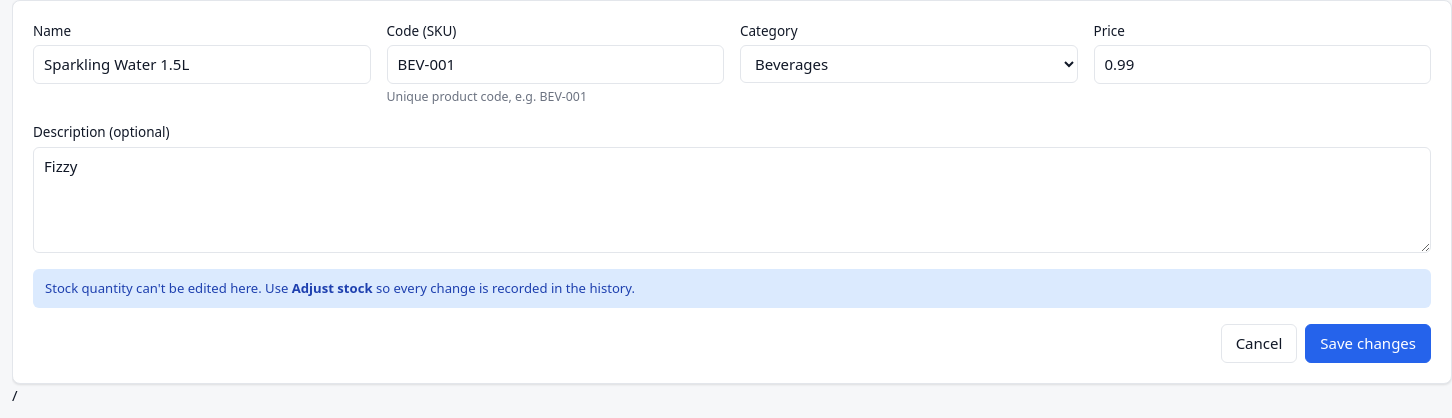
ProductForm › edits without a quantity field and shows backend field errors
Expected: the text "can't be edited here" is shown, x1=45 y1=279 x2=292 y2=297
Click the button "Save changes": [1368, 344] box x1=1305 y1=324 x2=1431 y2=363
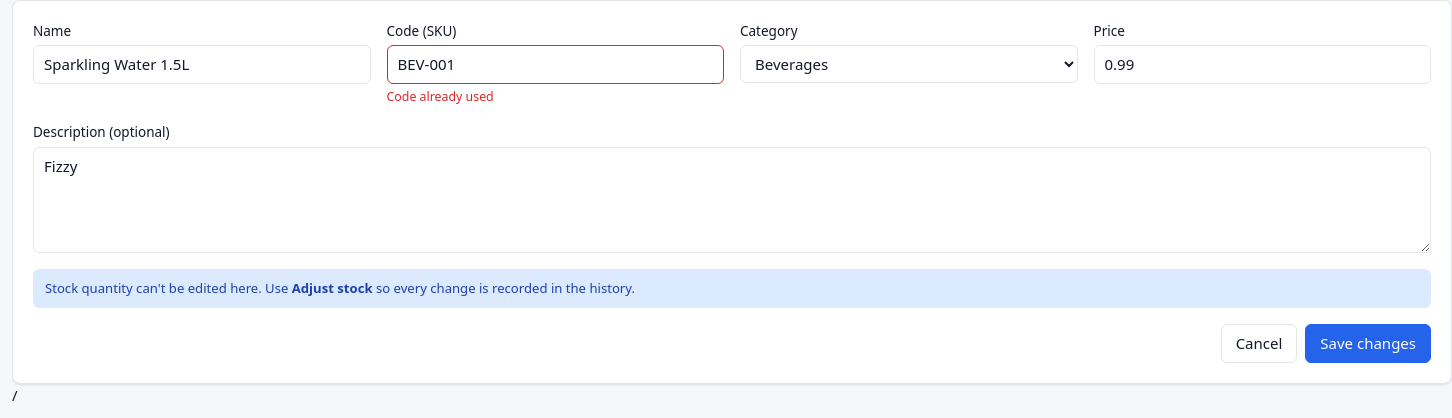
Result: the text "Code already used" is shown at x1=386 y1=88 x2=494 y2=105
